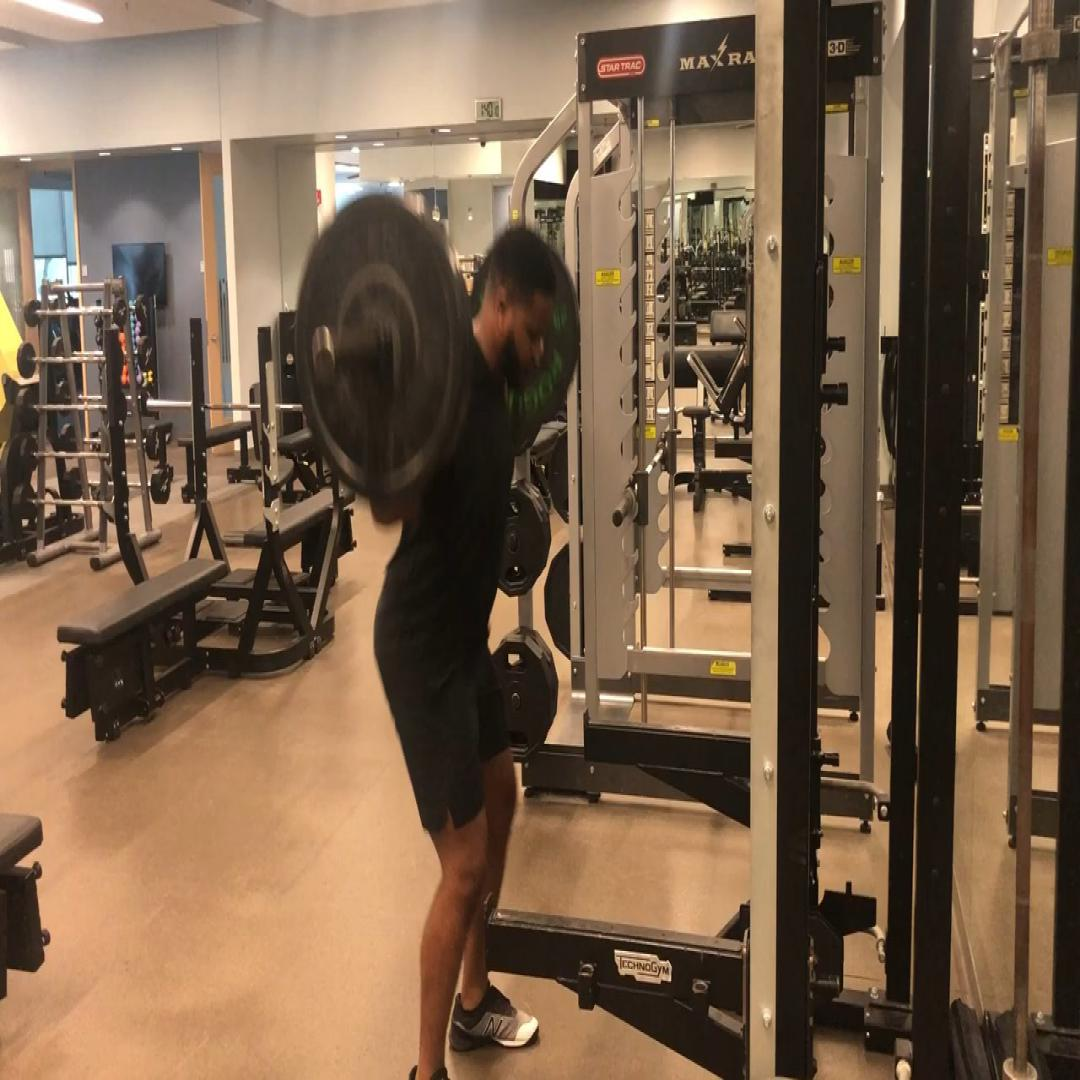Bar: (311, 326, 334, 380)
Barbell: (295, 194, 464, 500)
